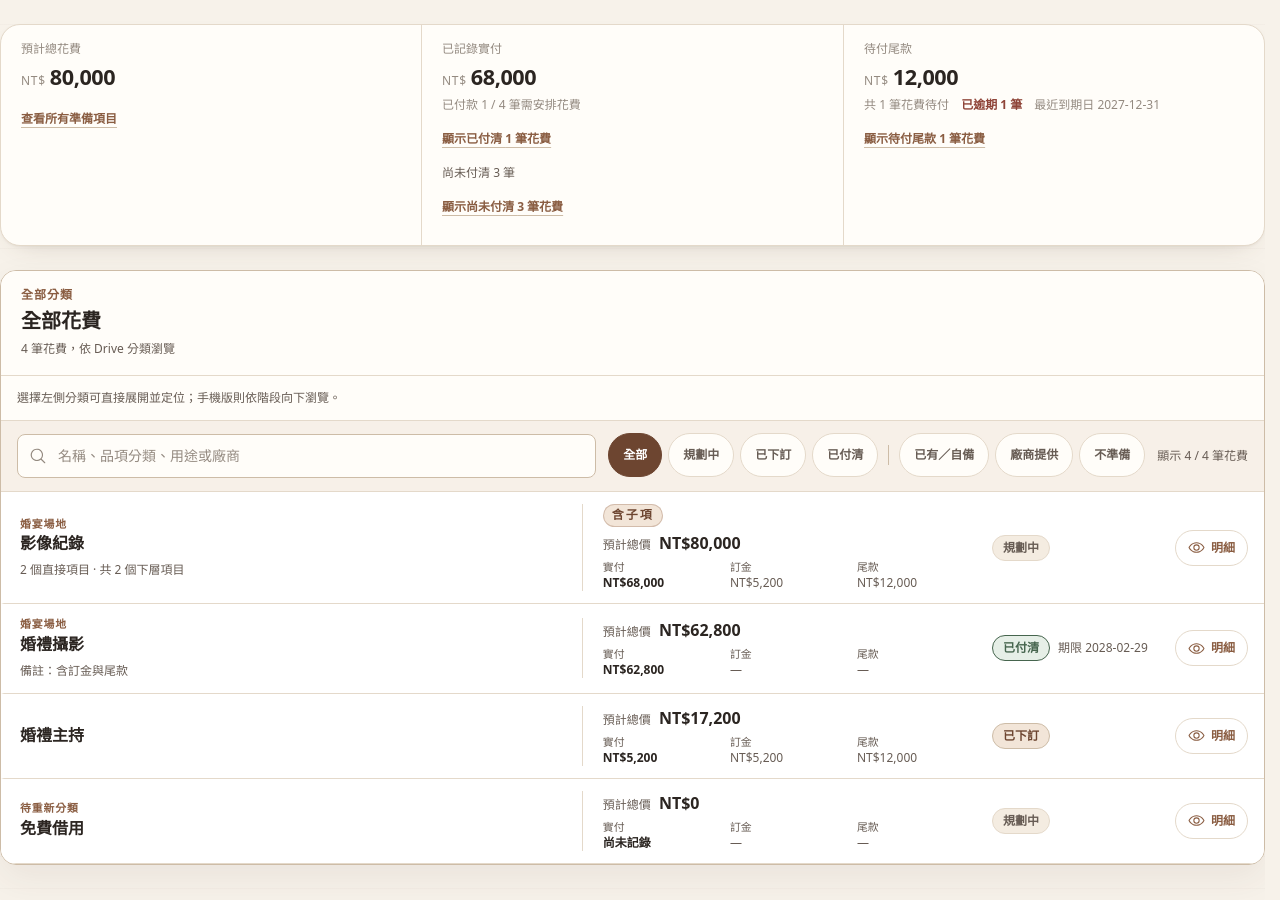
it: BudgetList › keeps an expense subtree rollup stable under status filtering
This screenshot has width=1280, height=900.
Check: the text named "含子項預計花費：NT$80,000" reads "NT$80,000", box [659, 532, 741, 554]
Check: the text named "含子項實付：NT$68,000" reads "NT$68,000", box [603, 574, 664, 591]
Click the button "規劃中".
click(701, 455)  # box [668, 433, 734, 477]
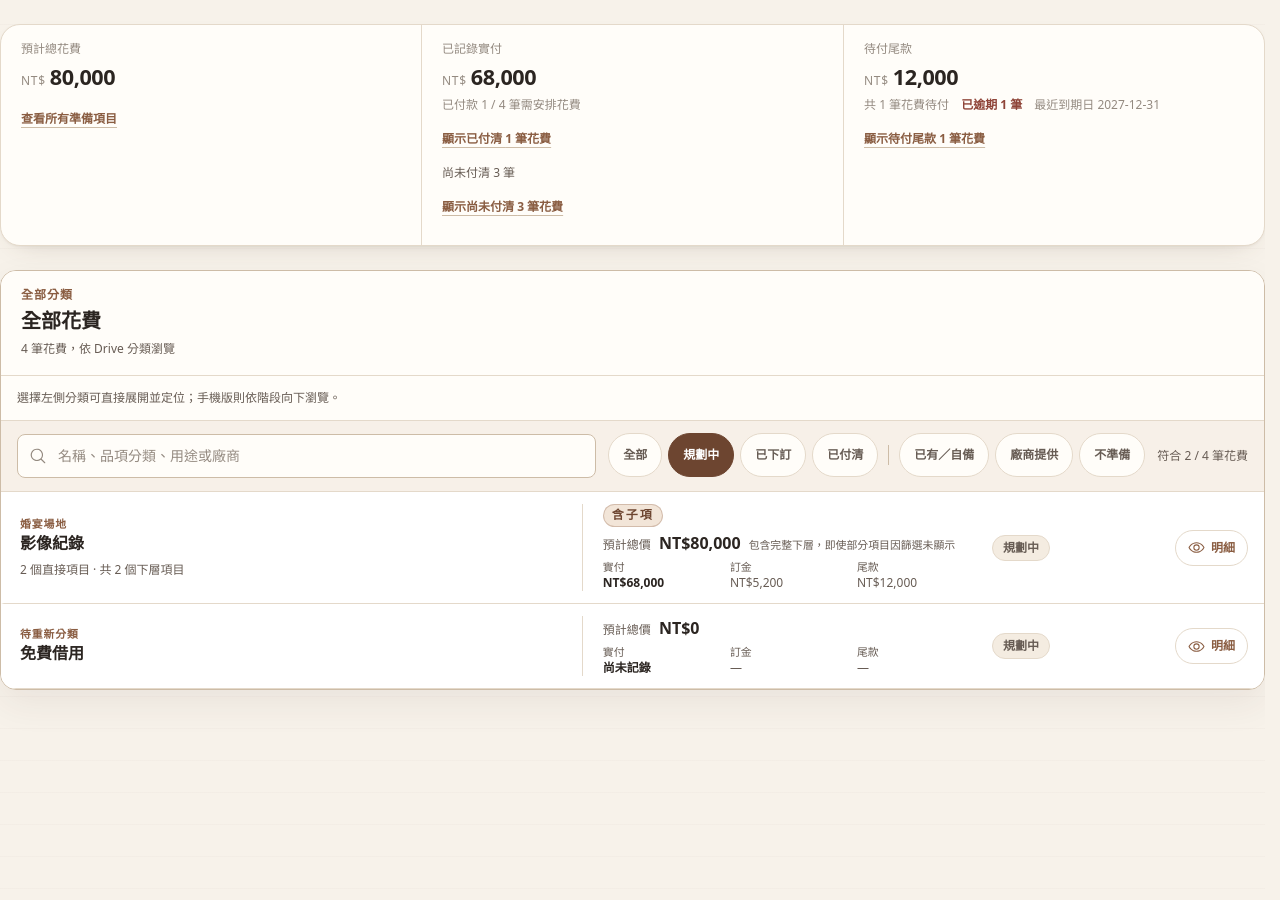
Check: the text named "含子項預計花費：NT$80,000" reads "NT$80,000", box [659, 532, 741, 554]
Check: the text "包含完整下層，即使部分項目因篩選未顯示" is shown, box [749, 537, 955, 553]
